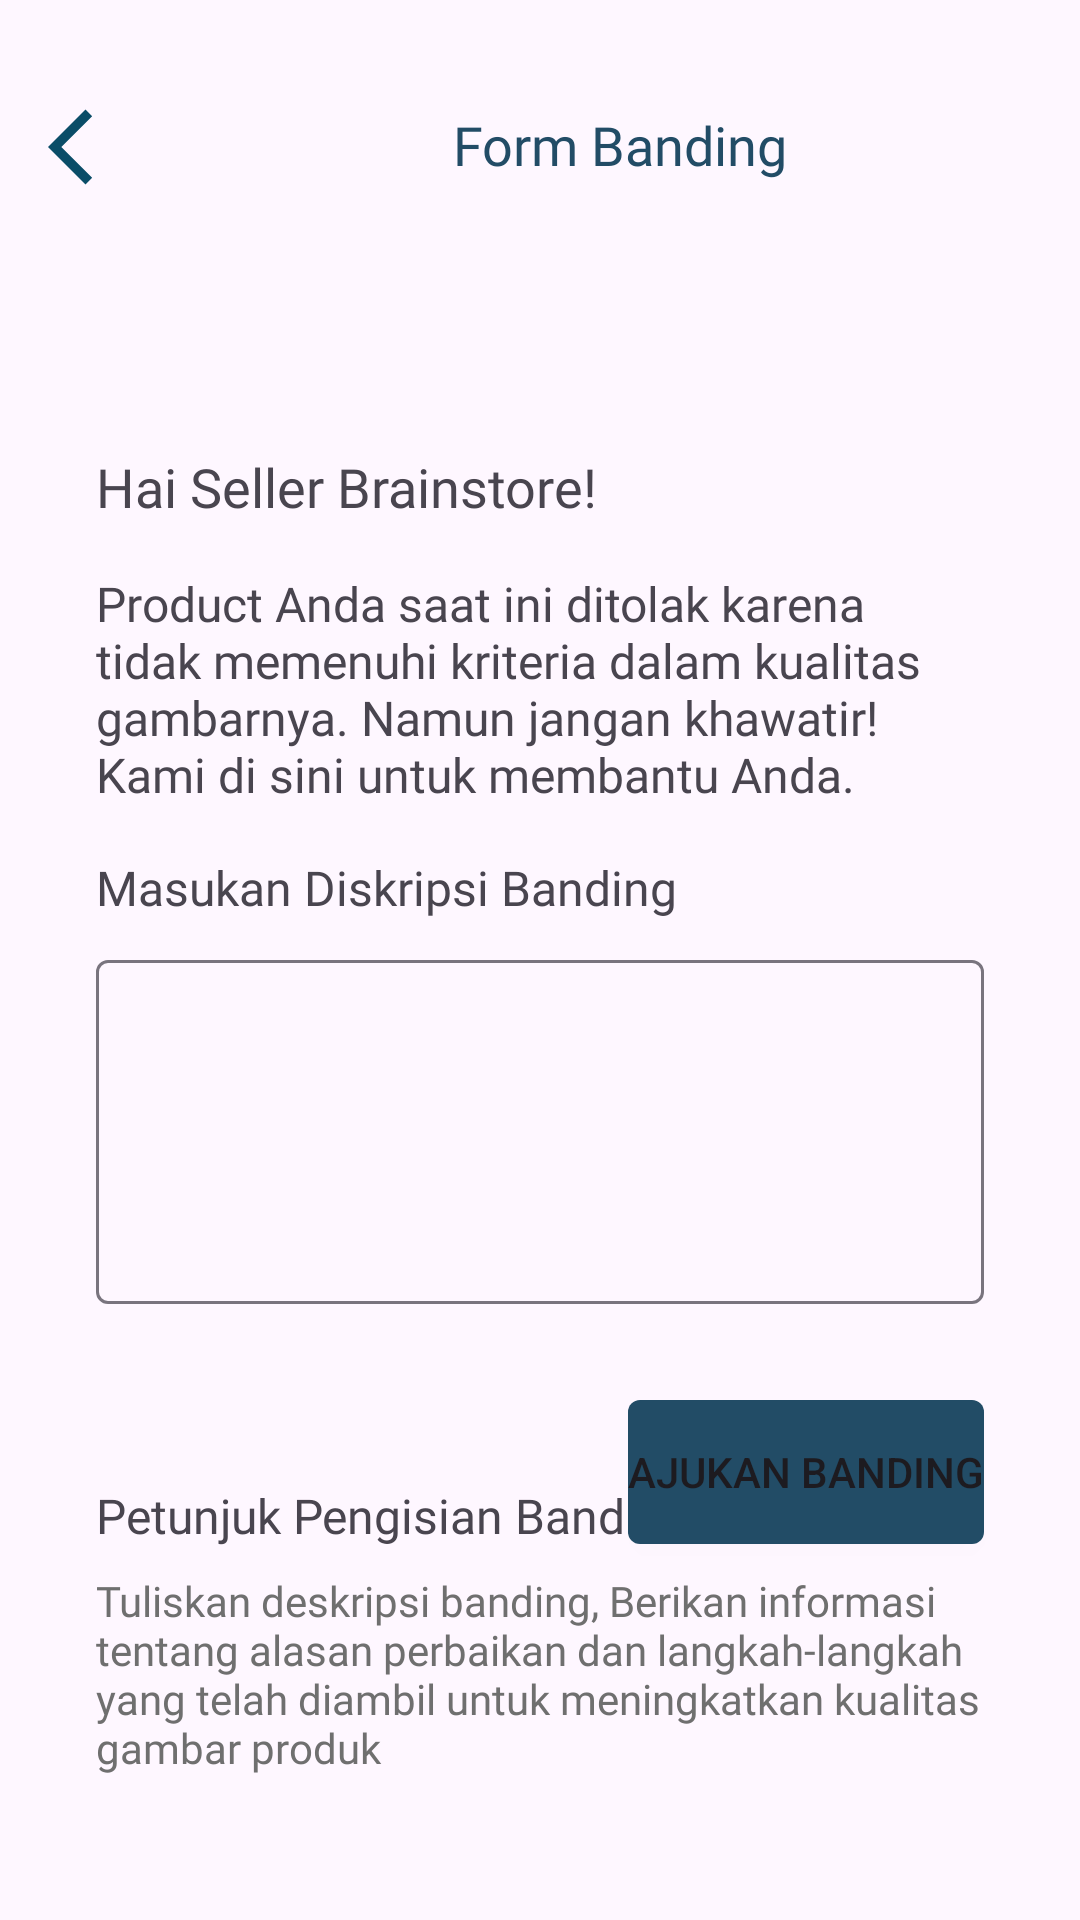

Icons on this 1080x1920 Android screen, each with the point to tap as (x,y):
back: (70,147)
